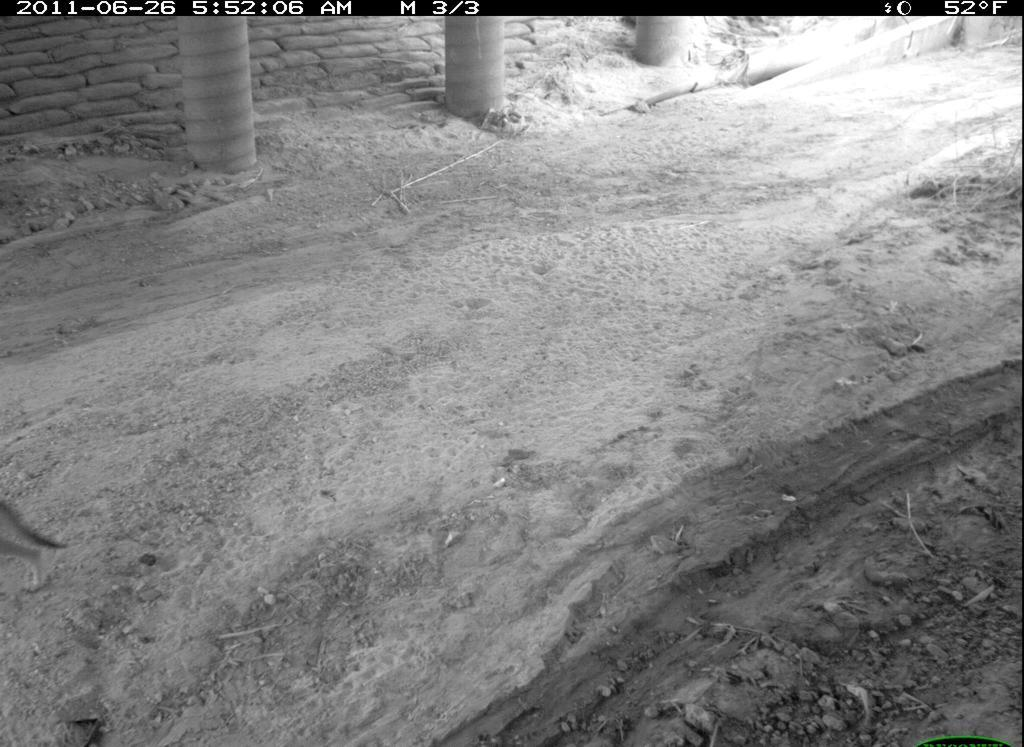coyote: (1, 484, 75, 596)
